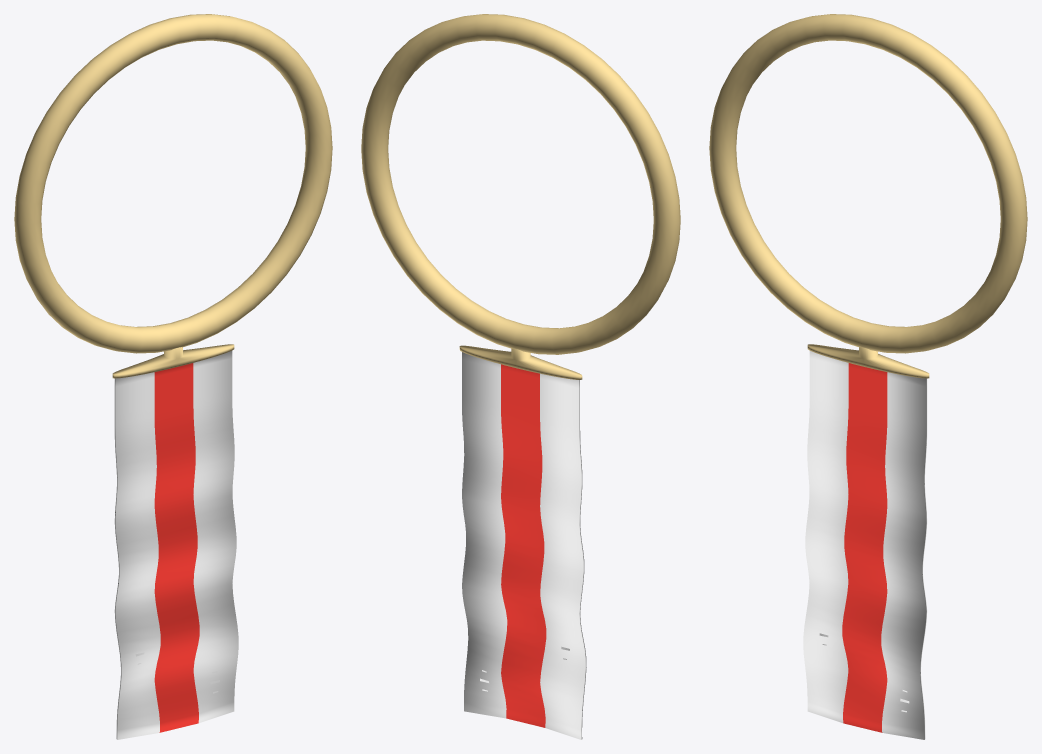
The model's file is ring.glb.
3 views of the same model, side by side, from view 1: azimuth 30°, elevation 25°; view 2: azimuth 150°, elevation 25°; view 3: azimuth 330°, elevation 25° (orthographic).
Visible parts, largest first — view 1: flag_001, hoop.001; view 2: flag_001, hoop.001; view 3: flag_001, hoop.001.
Part boxes in pixels (x1=…): flag_001: x1=114, y1=351, x2=238, y2=739; hoop.001: x1=14, y1=14, x2=332, y2=378; flag_001: x1=462, y1=352, x2=586, y2=739; hoop.001: x1=361, y1=14, x2=680, y2=379; flag_001: x1=803, y1=351, x2=927, y2=739; hoop.001: x1=709, y1=14, x2=1027, y2=378.
Bounding box in the file's own units: 38.25 × 81.86 × 2.85.
Materials: 3 (1 with a texture image).
